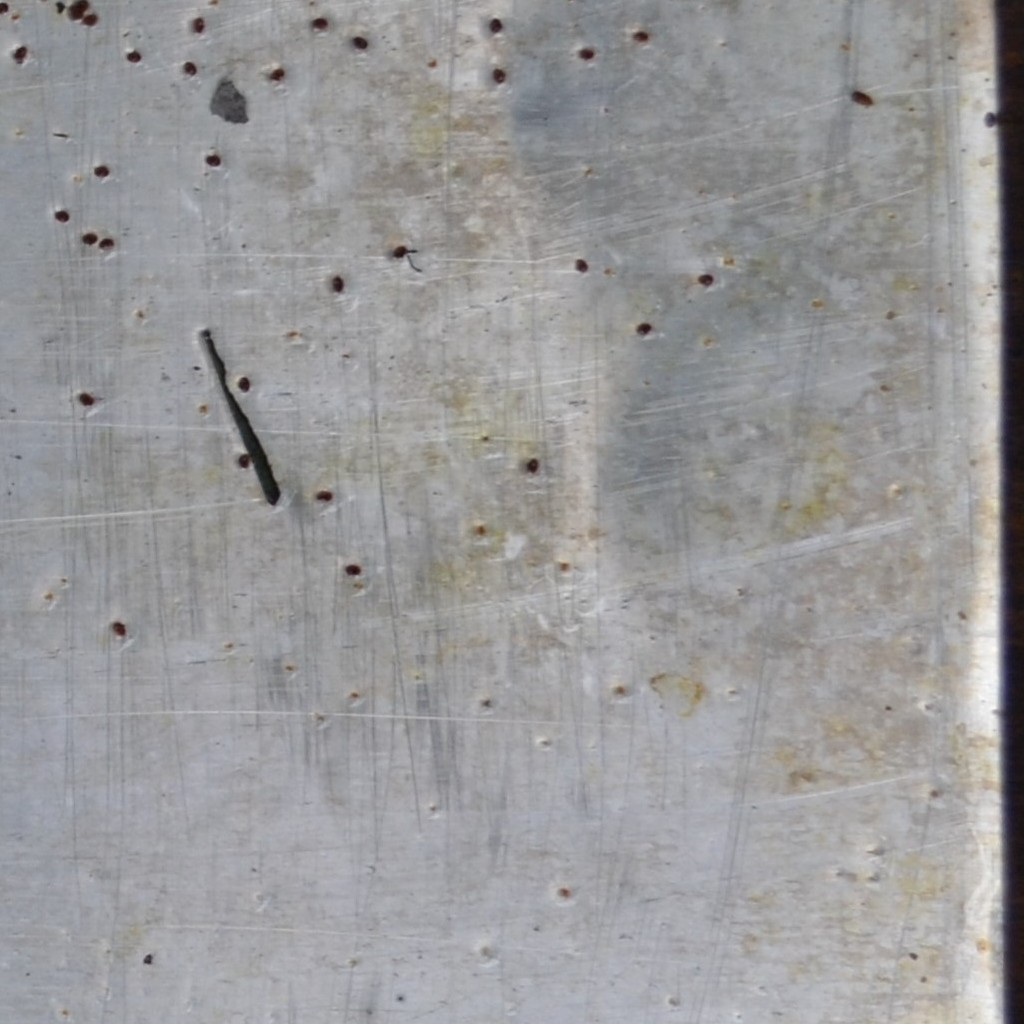varroa: (847, 86, 877, 109), (484, 13, 507, 37), (201, 149, 225, 170), (693, 272, 718, 292), (632, 318, 656, 338), (76, 386, 95, 410), (980, 108, 997, 134), (347, 34, 371, 52), (490, 64, 507, 89), (571, 255, 593, 274), (627, 27, 651, 44), (52, 206, 73, 225), (268, 65, 288, 84), (388, 242, 407, 262), (110, 619, 129, 639), (575, 46, 597, 63), (79, 230, 99, 248), (125, 48, 143, 67), (235, 375, 253, 394), (92, 161, 111, 179), (310, 16, 330, 33), (329, 274, 346, 294), (98, 236, 115, 256), (344, 562, 365, 578), (81, 12, 100, 29), (525, 454, 541, 474), (235, 451, 251, 470), (192, 15, 207, 34), (67, 3, 83, 20), (12, 43, 30, 58), (182, 57, 195, 75), (73, 1, 93, 11), (0, 1, 11, 17), (314, 489, 325, 501), (323, 489, 333, 502)
